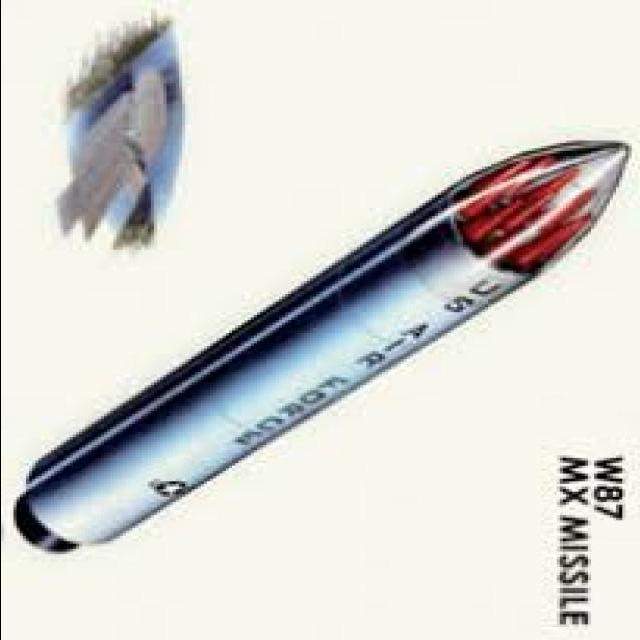Missile: (21, 131, 636, 574)
